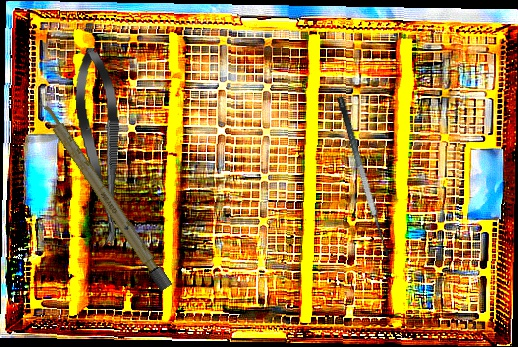Micro Scissor: (70, 45, 132, 248)
Scalpel Handle: (35, 98, 173, 292)
Spatula Surgical: (336, 92, 402, 261)
